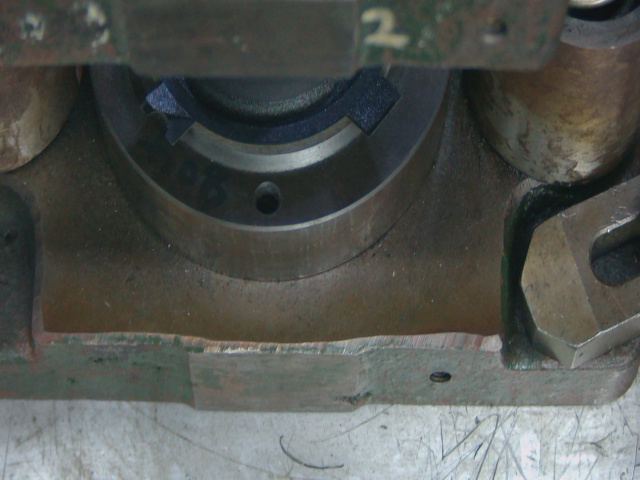NG: (143, 86, 203, 154)
